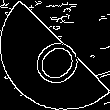O_NE: (22, 22, 88, 88)
